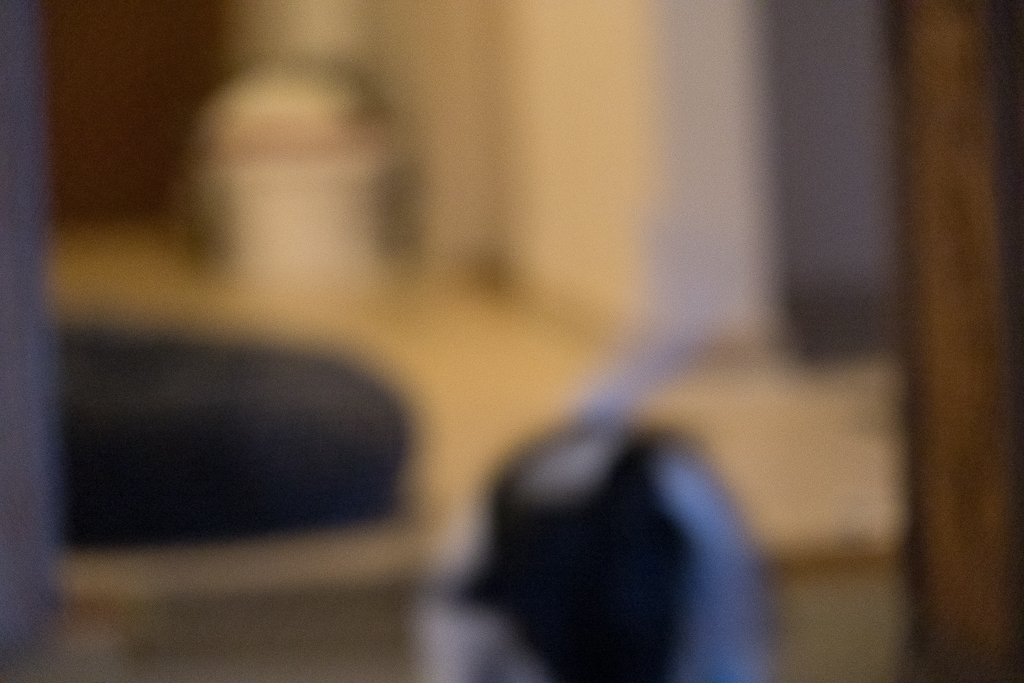Dog: (385, 193, 826, 683)
